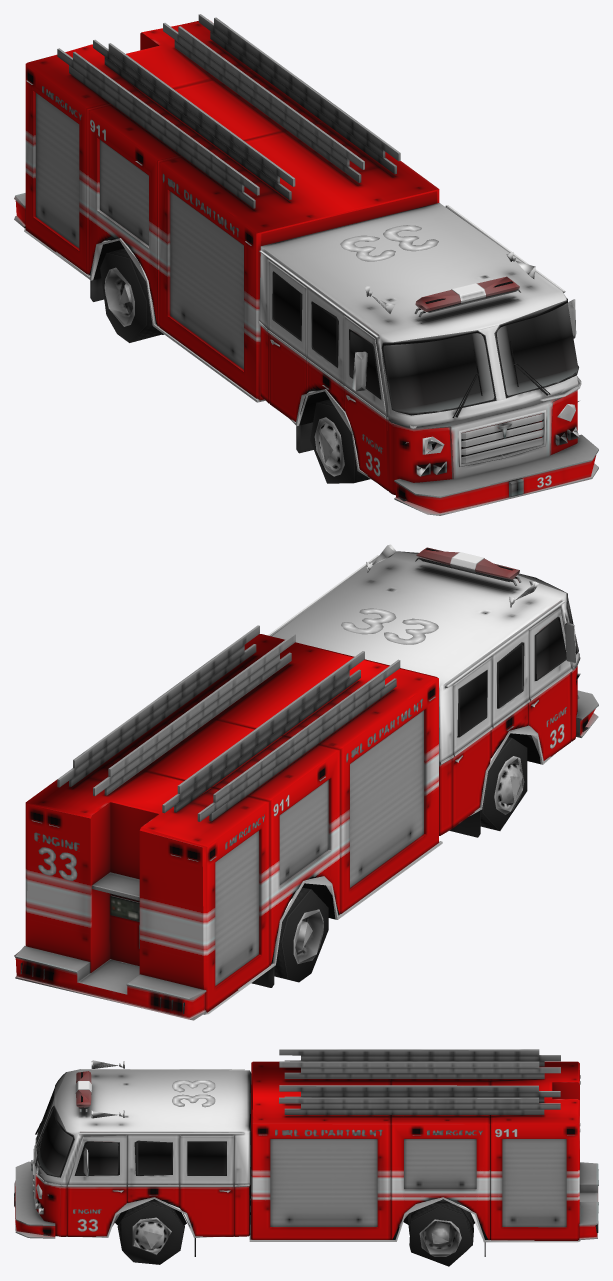
Rendered from svc_fire_truck.glb.
3 views of the same model, one above another, from view 1: azimuth 30°, elevation 25°; view 2: azimuth 150°, elevation 25°; view 3: azimuth 270°, elevation 25° (orthographic). The views are drawn at different scales.
Parts seen in each view (by area): view 1: svc_fire_truck; view 2: svc_fire_truck; view 3: svc_fire_truck.
Part boxes in pixels (x1,y1,x2,y2): svc_fire_truck: (14, 14, 598, 515); svc_fire_truck: (14, 544, 598, 1020); svc_fire_truck: (14, 1049, 598, 1266).
Bounding box in the file's own units: 2.66 × 2.61 × 8.58.
1 material, 1 textured.
